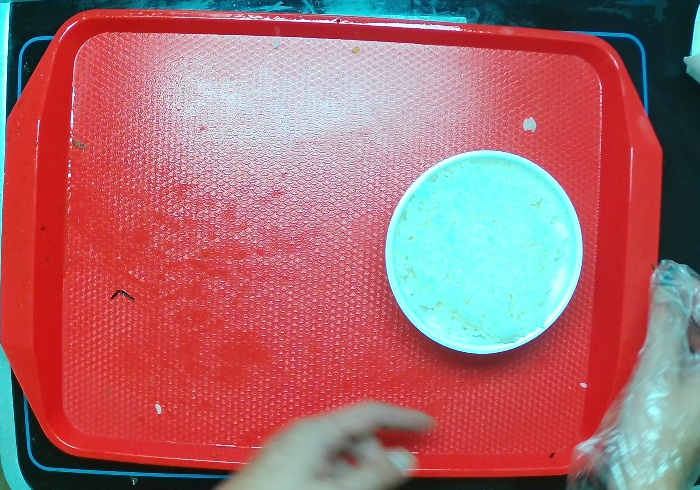YKMZ-Fan_Wan: (370, 139, 590, 361)
